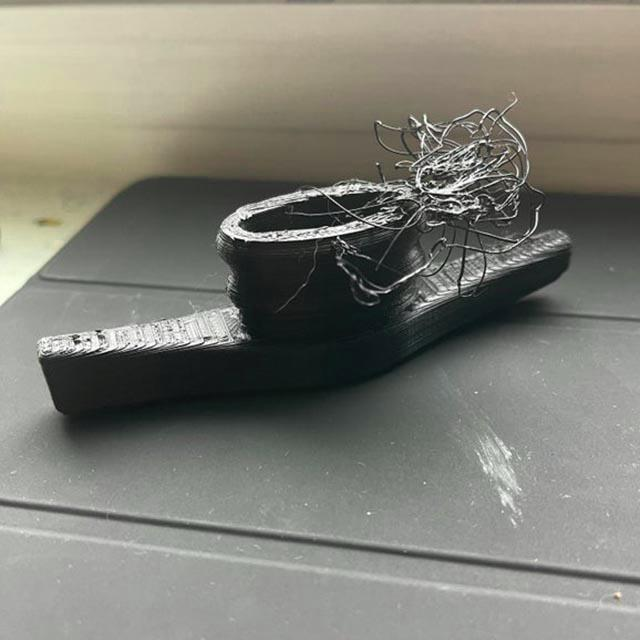spaghetti: (335, 89, 549, 313), (273, 238, 324, 317), (291, 188, 337, 222)
